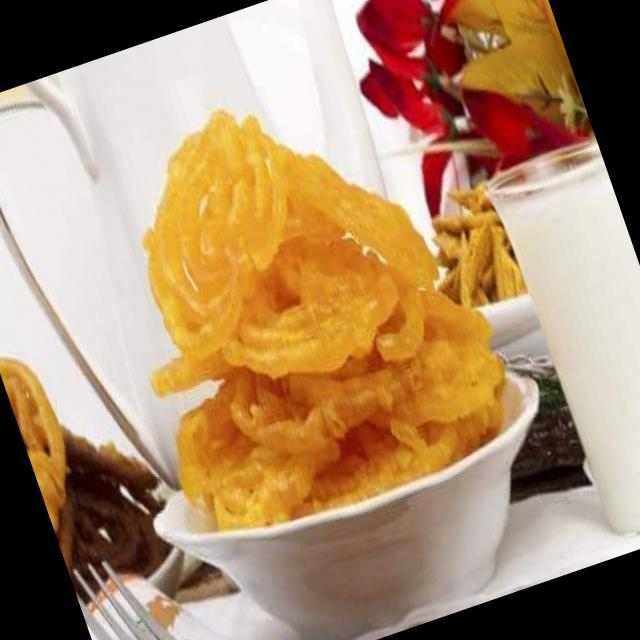jalebi: (89, 50, 512, 537)
